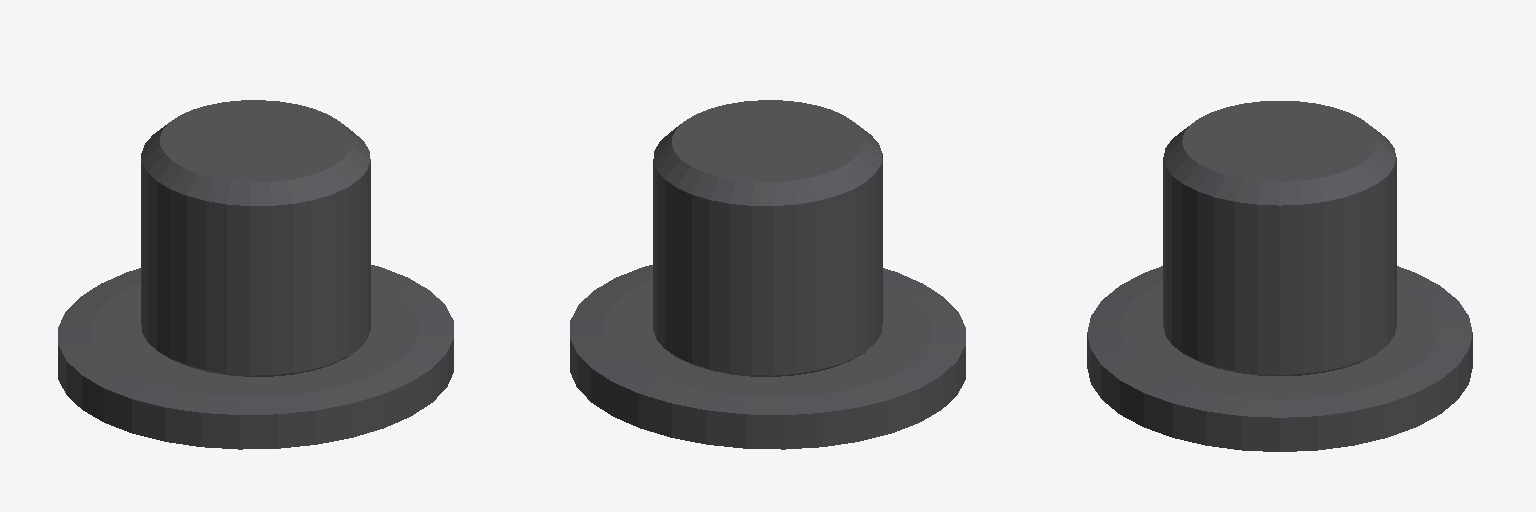
The model's file is GoldTopHat.obj.
The picture shows the model from 3 angles: view 1: azimuth 30°, elevation 25°; view 2: azimuth 150°, elevation 25°; view 3: azimuth 270°, elevation 25°; orthographic projection.
Parts seen in each view (by area): view 1: Handle1; view 2: Handle1; view 3: Handle1.
Boxes of the visible parts, x1,y1,x2,y2 form: Handle1: [58, 100, 453, 449]; Handle1: [570, 100, 965, 449]; Handle1: [1087, 101, 1472, 451].
Size of the model in its own units: 1.64 by 1.04 by 1.58.